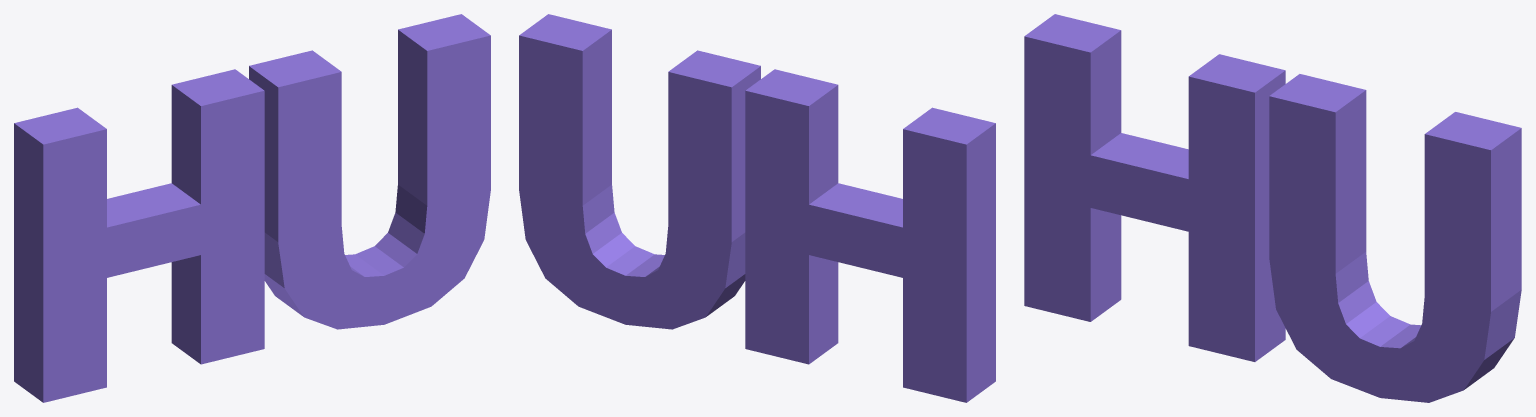
The model's file is suku_besar_hu.glb.
3 renders of one model, left to right at view 1: azimuth 30°, elevation 25°; view 2: azimuth 150°, elevation 25°; view 3: azimuth 330°, elevation 25°, orthographic. The views are drawn at different scales.
Visible parts, largest first — view 1: geometry_0; view 2: geometry_0; view 3: geometry_0.
Part boxes in pixels (x1,y1,x2,y2): geometry_0: [14, 14, 490, 402]; geometry_0: [519, 14, 995, 402]; geometry_0: [1024, 14, 1521, 402].
Size of the model in its own units: 13.22 by 7.43 by 1.5.
